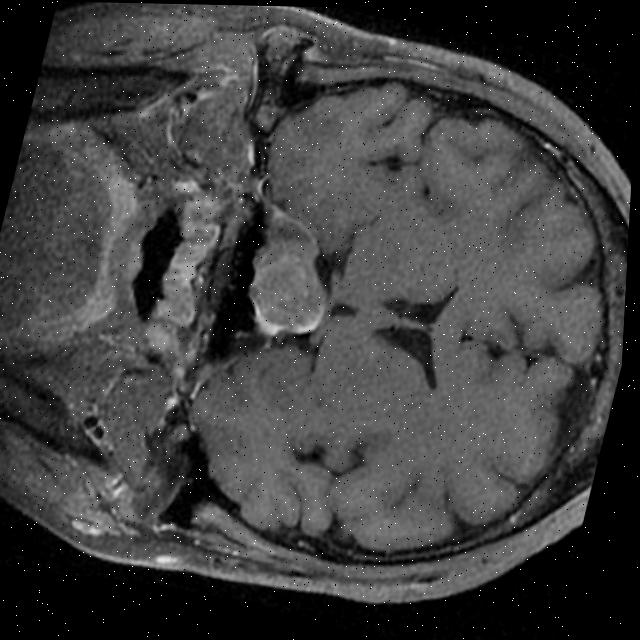Pituitary: (235, 231, 341, 349)
